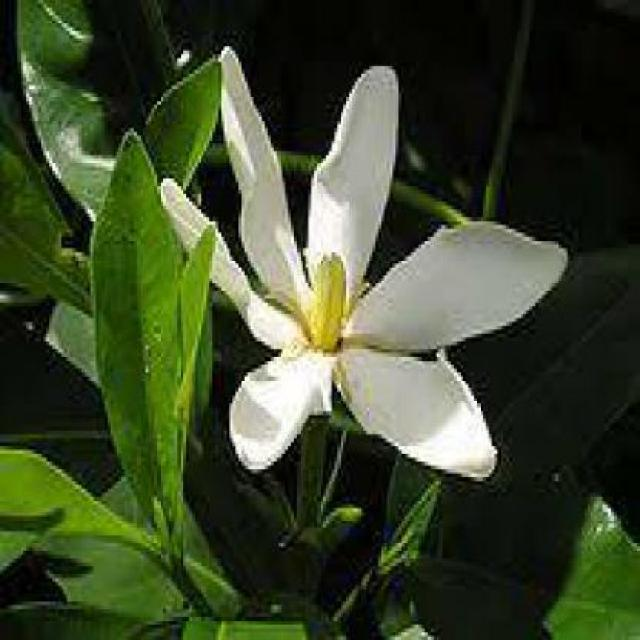flower: (153, 50, 575, 481)
